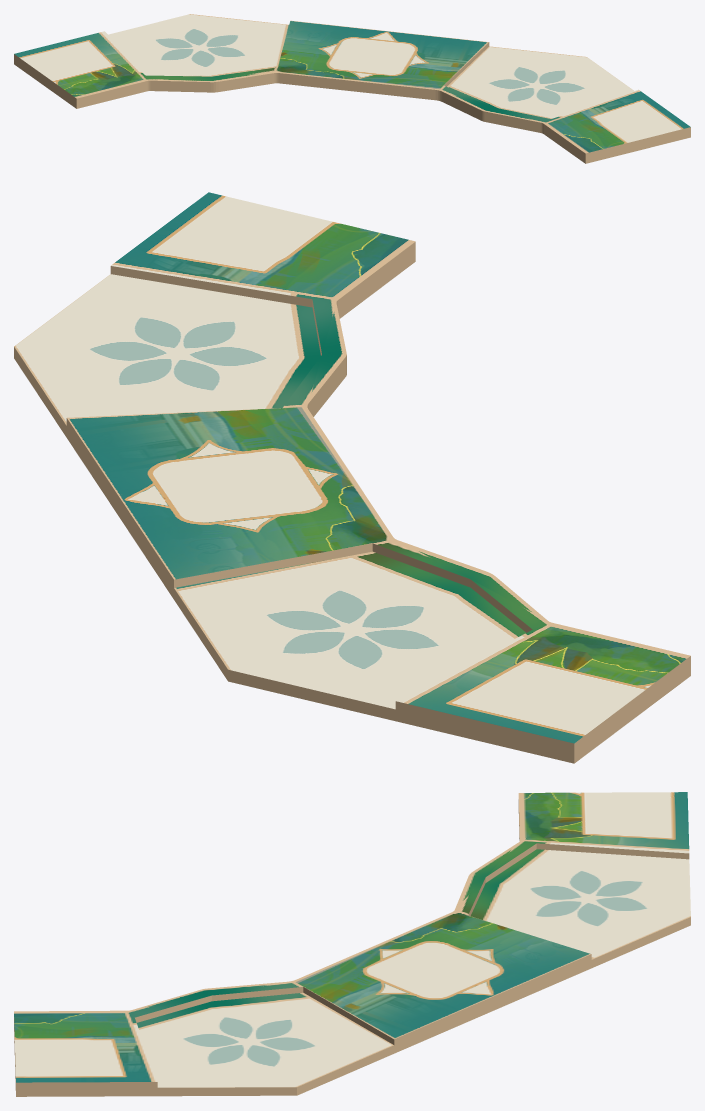
The model's file is corner_slice.glb.
The picture shows the model from 3 angles, top to bottom: view 1: azimuth 30°, elevation 25°; view 2: azimuth 150°, elevation 25°; view 3: azimuth 270°, elevation 25°; orthographic projection. The views are drawn at different scales.
Visible parts, largest first — view 1: Curve.010; view 2: Curve.010; view 3: Curve.010.
Boxes of the visible parts, x1,y1,x2,y2 form: Curve.010: (14, 14, 690, 163); Curve.010: (14, 192, 690, 763); Curve.010: (14, 792, 690, 1096).
Bounding box in the file's own units: 0.2445 × 0.00562 × 0.2409.
1 material, 1 textured.
